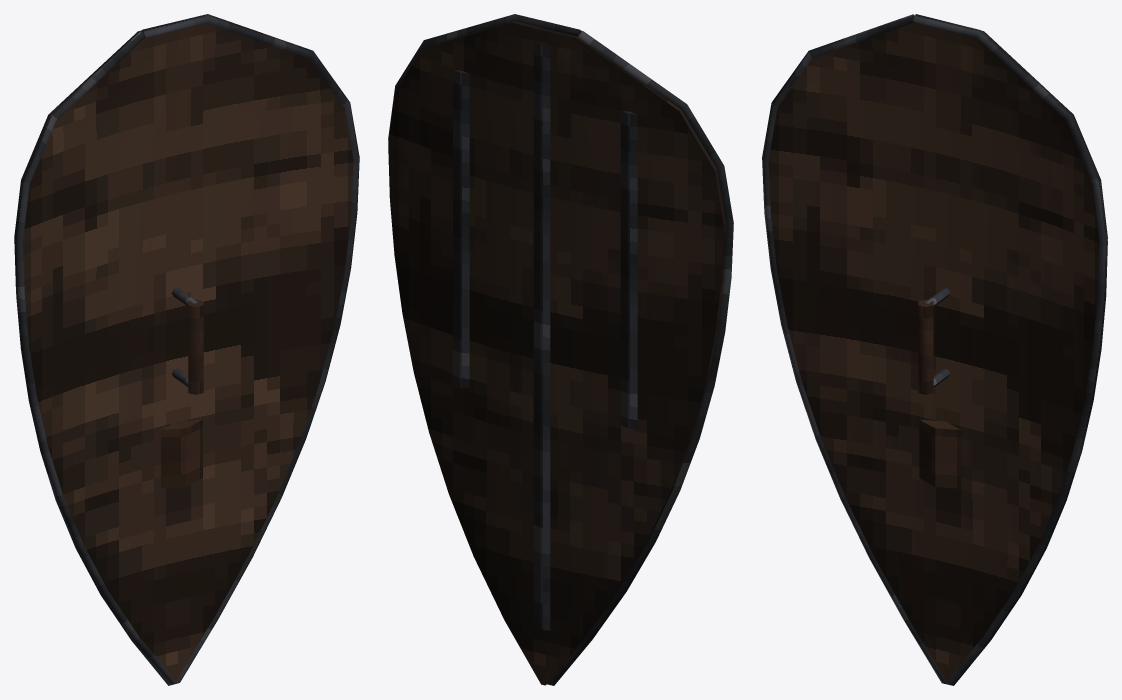
Rendered from banded_kite.glb.
3 views of the same model, side by side, from view 1: azimuth 30°, elevation 25°; view 2: azimuth 150°, elevation 25°; view 3: azimuth 330°, elevation 25° (orthographic).
Visible parts, largest first — view 1: banded_kite; view 2: banded_kite; view 3: banded_kite.
Part boxes in pixels (bbox=[...]): banded_kite: bbox=[14, 14, 359, 685]; banded_kite: bbox=[388, 14, 733, 685]; banded_kite: bbox=[762, 14, 1107, 685].
Bounding box in the file's own units: 0.4939 × 0.9053 × 0.0815.
1 material, 1 textured.
